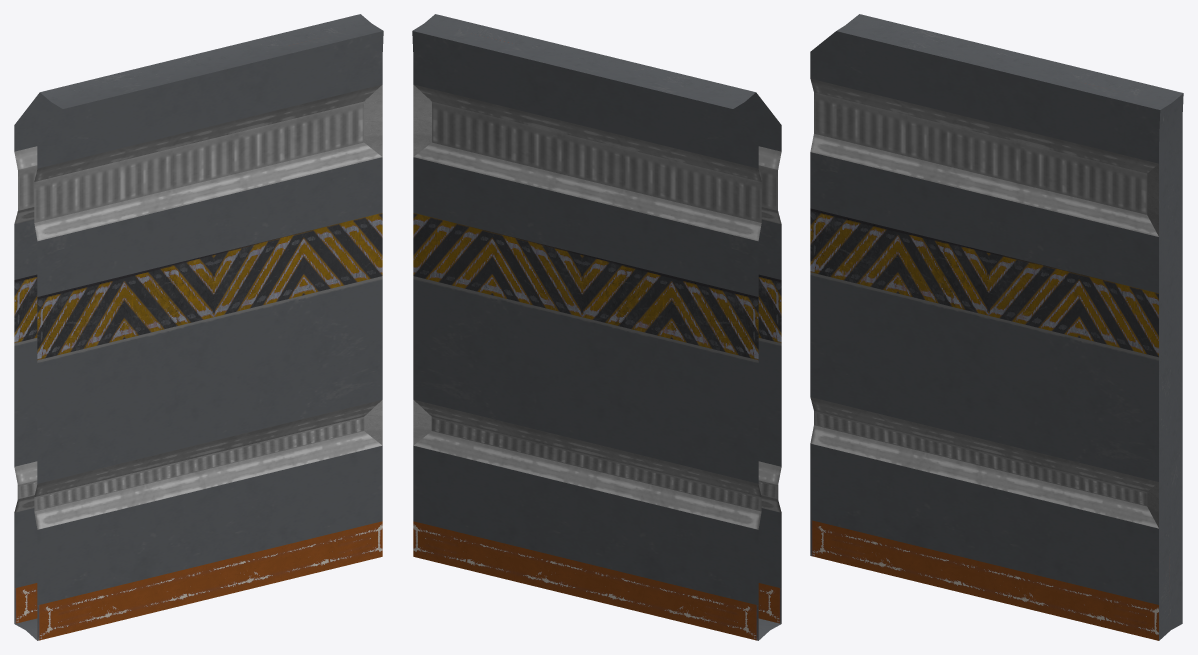
The model's file is door right.FBX.
3 renders of one model, left to right at view 1: azimuth 30°, elevation 25°; view 2: azimuth 150°, elevation 25°; view 3: azimuth 330°, elevation 25°, orthographic.
Parts seen in each view (by area): view 1: Object030; view 2: Object030; view 3: Object030.
Boxes of the visible parts, x1,y1,x2,y2 form: Object030: (14,14,383,640); Object030: (412,14,781,640); Object030: (810,14,1183,640).
Bounding box in the file's own units: 141 × 204 × 16.35.
1 material, 1 textured.
